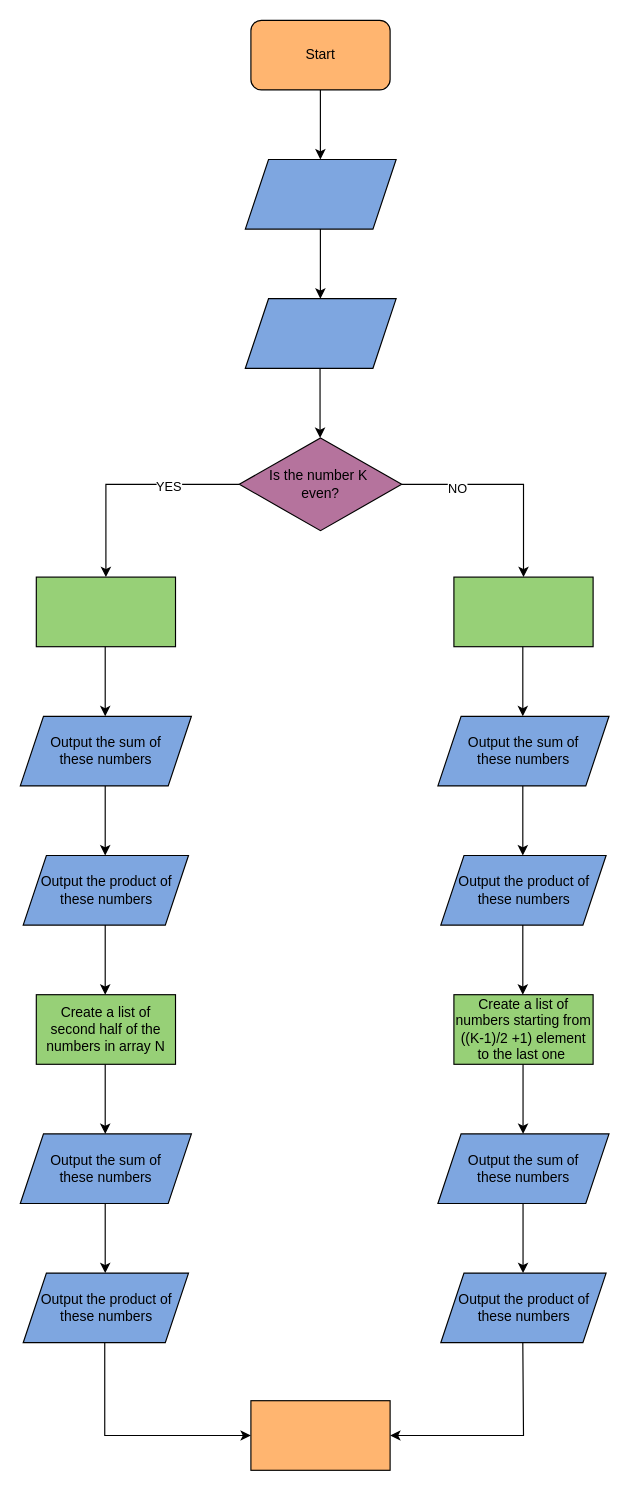
Image size: 630x1491. Some labels were removed from this diagram. The shapes that lost their labels are listed below. From the top down, each one's centre as x and y in pixels, then its label:
At point 320,193: "Enter numbers in array N".
At point 320,333: "K = length of array N".
At point 105,611: "Create a list of first half of the numbers in array N".
At point 523,611: "Create a list of first (K-1)/2 numbers".
At point 320,1435: "End".
